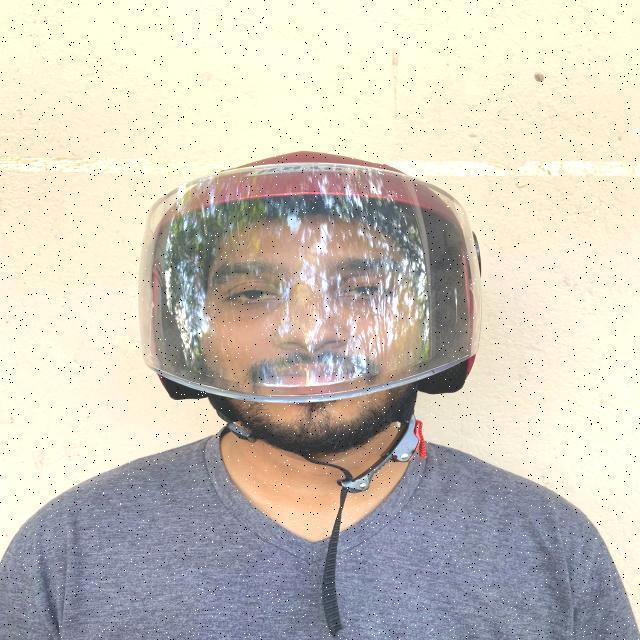helmet: (136, 150, 483, 640)
